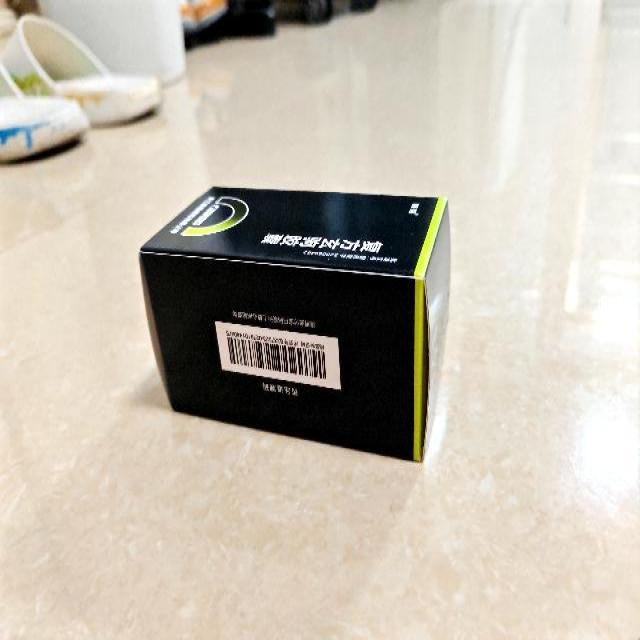box: (140, 185, 452, 460)
